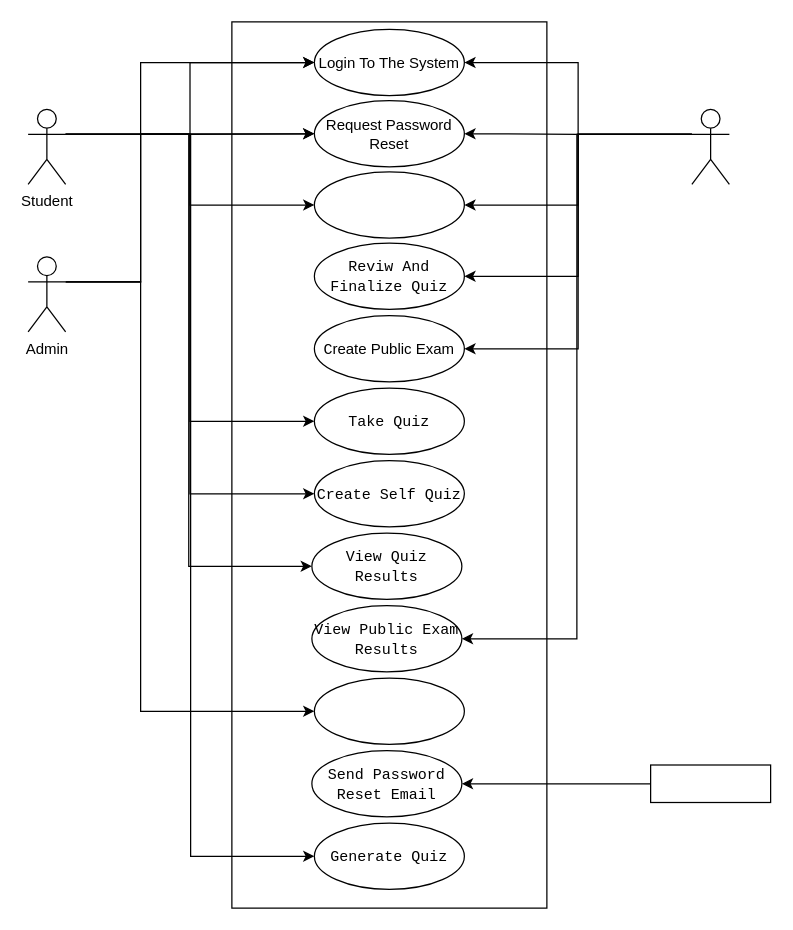
Image size: 793x930. Some labels were removed from this diagram. The shapes that lost their labels are listed below. From the top down, each one's centre as x and y in pixels, then its label:
point (710, 146): Instructor
point (388, 204): Upload Content
point (388, 710): Access Statistical Reports
point (710, 783): Email Service
